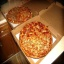pizza: (19, 22, 51, 57), (6, 8, 33, 22)
